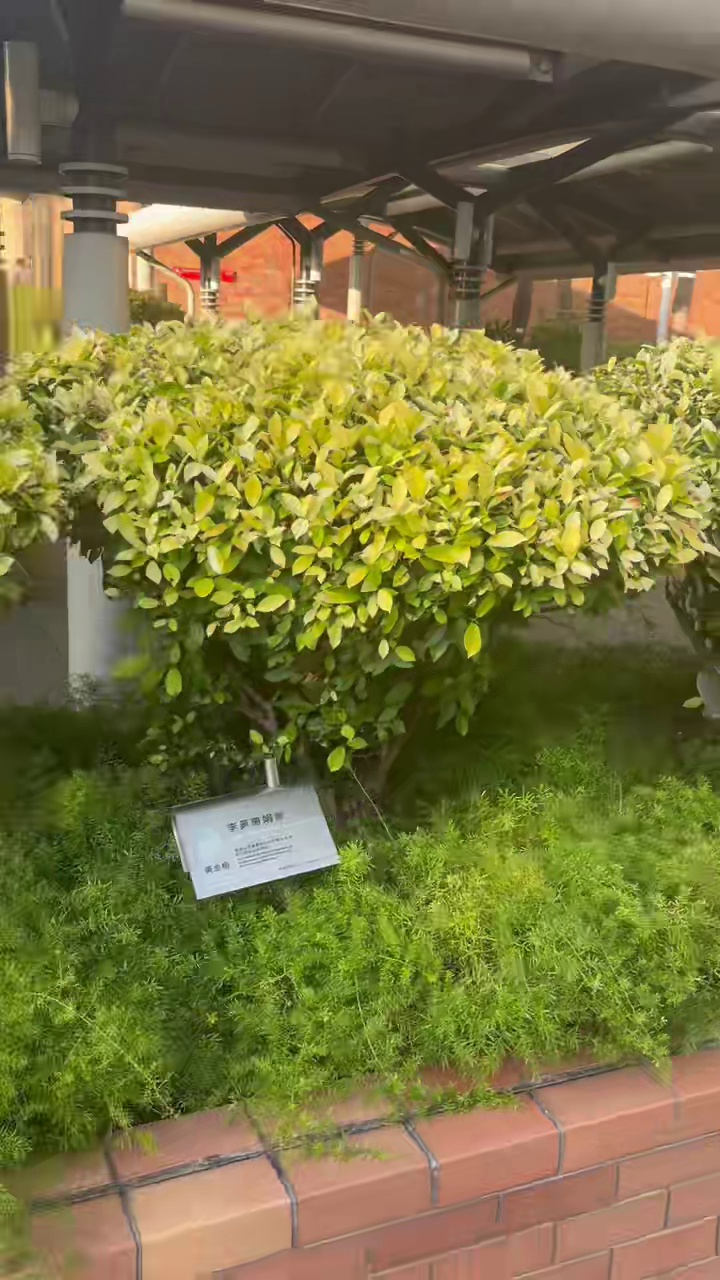Golden-leaves Fig: (3, 314, 715, 780)
